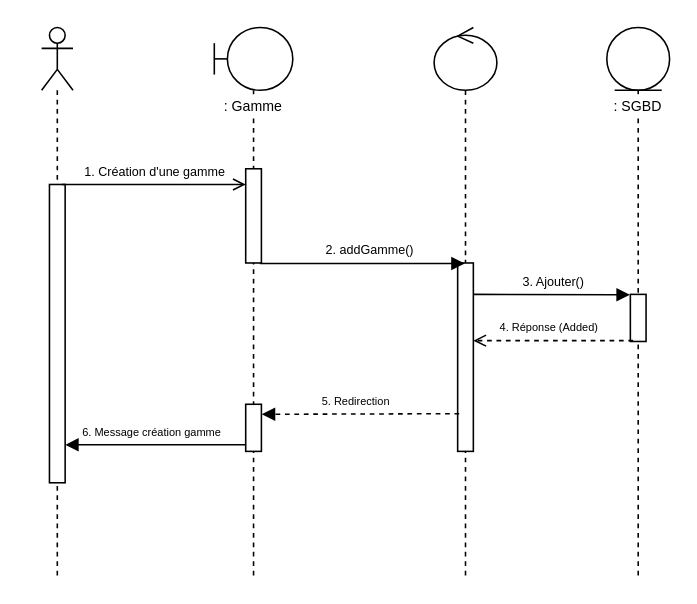
Image size: 697x604. Some labels were removed from this diagram. Here are the shapes that lost their labels. From the top down, the box of each, then its label:
(40, 26, 73, 577): : Ingenieur BE
(433, 26, 497, 577): : GestGamme
